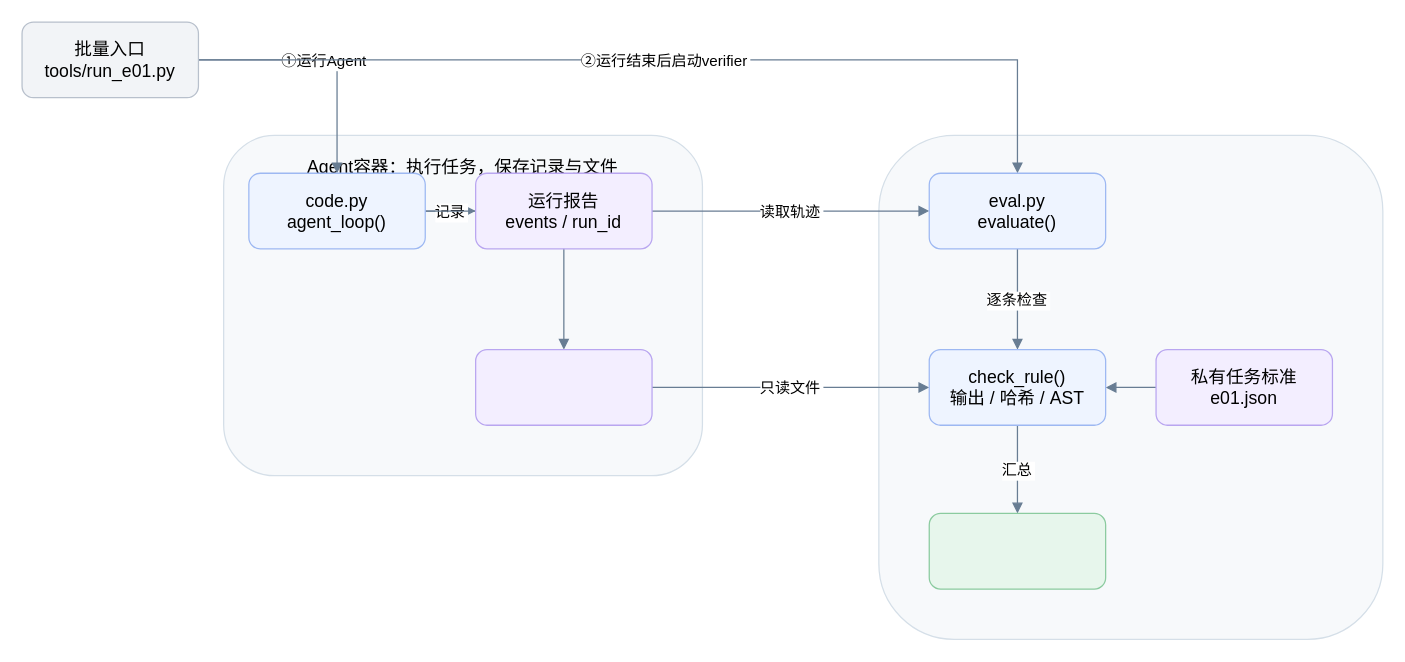
This 1405x662 diagram has some shape labels left out. The shapes that lost their labels are listed below. From the top down, each one's box as (x1, y1, x2, y2) in pixels, then its label:
(474, 348, 652, 425): 工作目录 hello.py等真实文件
(878, 134, 1383, 639): verifier · 离线
(928, 512, 1106, 589): 验收结果 passed / checks
